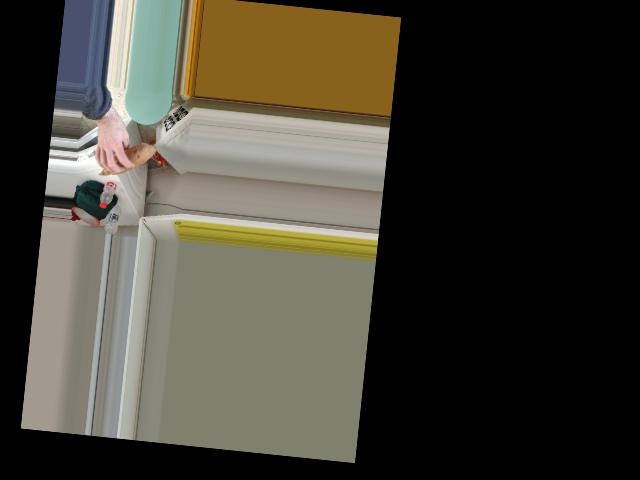sweet_potato: (96, 138, 154, 178)
